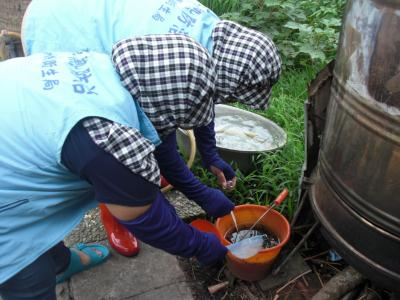bowl: (211, 103, 286, 158)
bucket: (216, 205, 291, 283)
